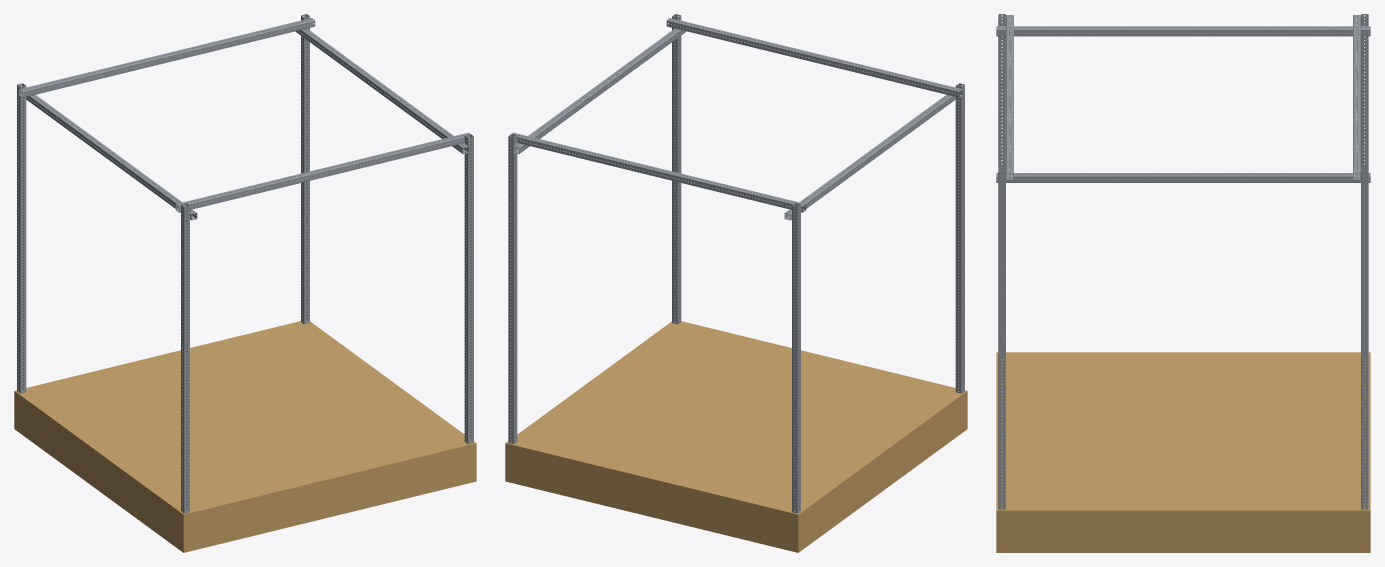
Rendered from 8x8-opt.glb.
3 views of the same model, side by side, from view 1: azimuth 30°, elevation 25°; view 2: azimuth 150°, elevation 25°; view 3: azimuth 270°, elevation 25° (orthographic). The views are drawn at different scales.
Visible parts, largest first — view 1: module-base, module-steel; view 2: module-base, module-steel; view 3: module-base, module-steel.
Part boxes in pixels (x1,y1,x2,y2): module-base: [14, 318, 476, 552]; module-steel: [17, 14, 473, 513]; module-base: [505, 318, 967, 552]; module-steel: [508, 14, 964, 513]; module-base: [996, 352, 1370, 552]; module-steel: [996, 14, 1370, 509].
Size of the model in its own units: 2.44 by 2.74 by 2.44.
